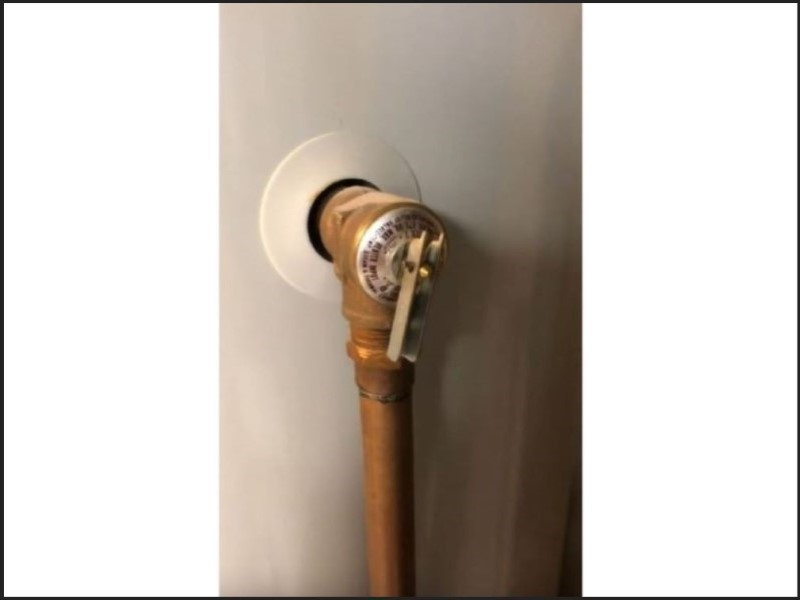Valve: (304, 178, 454, 407)
